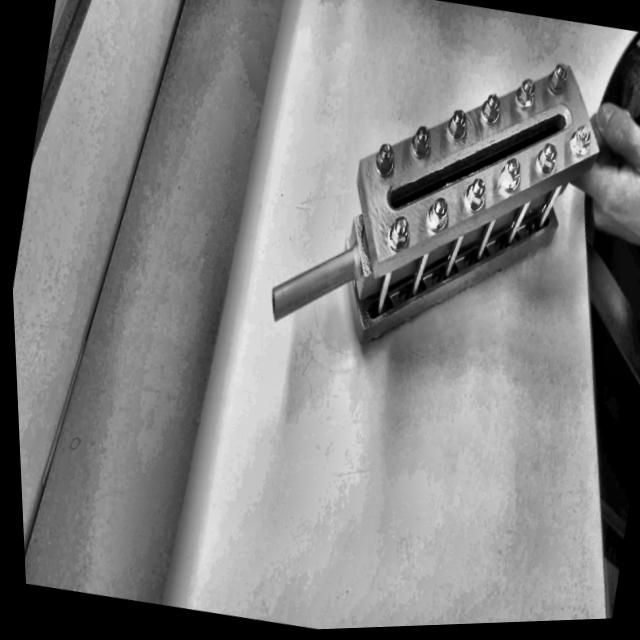ShuiWeiQi_12: (219, 0, 626, 411)
